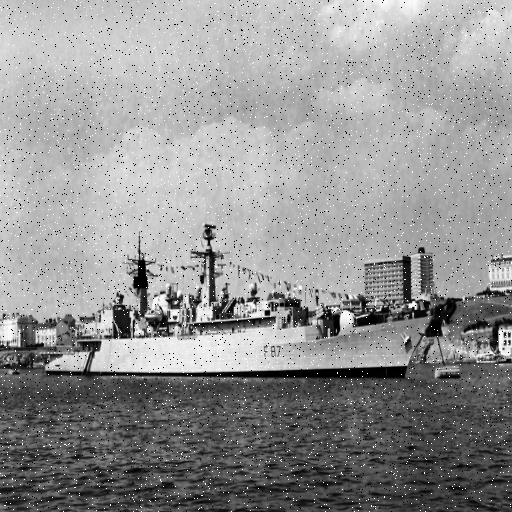Fragata: (34, 216, 443, 393)
